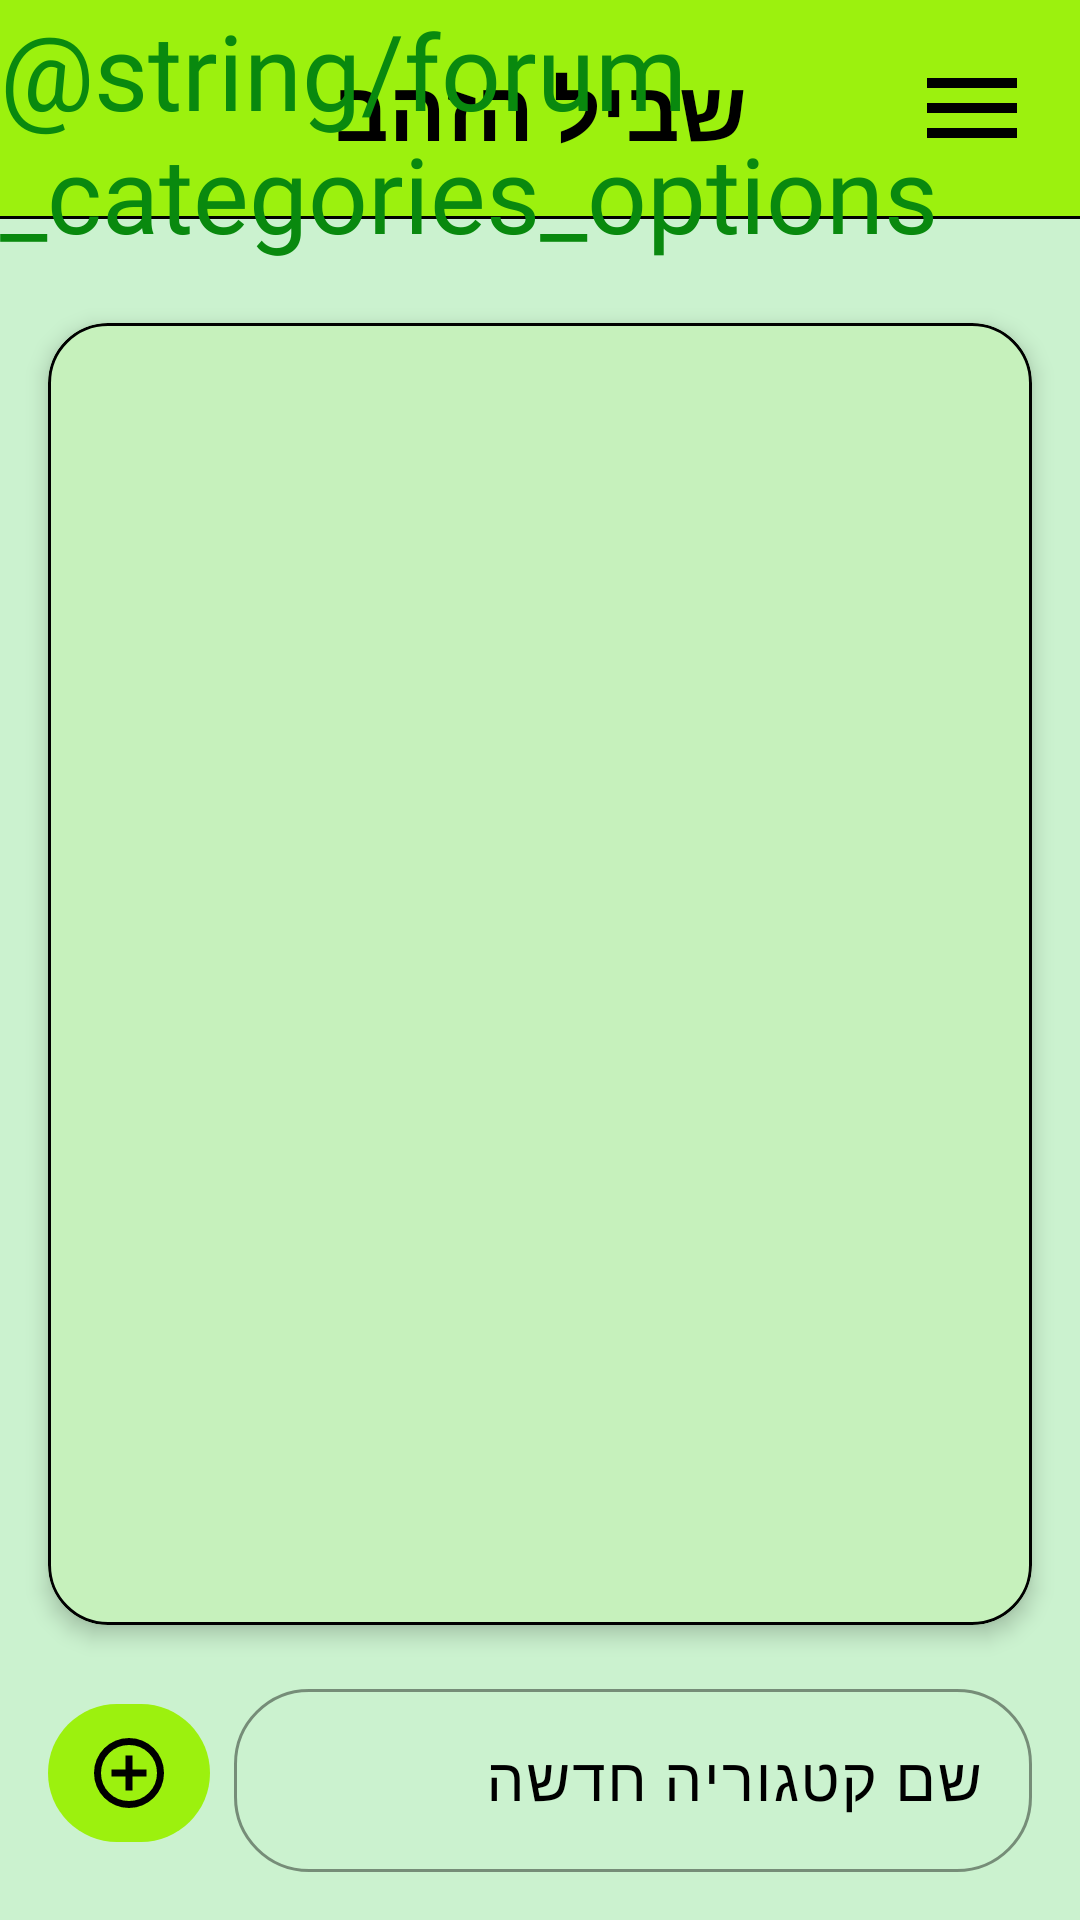

Screen size 1080x1920. Icon name, then its box in pixels as bbox=[x1, y1, x2, y2]:
הוסף: bbox=[48, 1704, 210, 1842]
